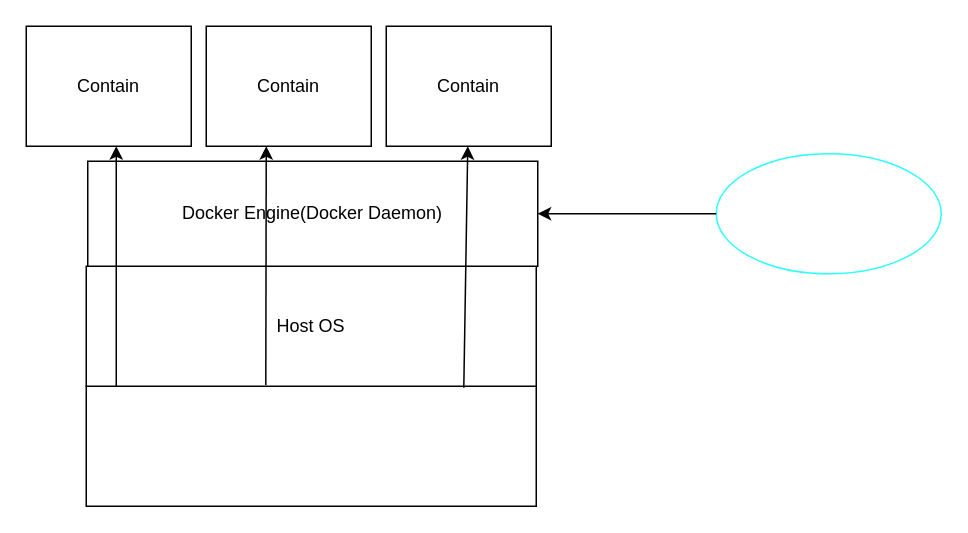
Image size: 968x533. Some labels were removed from this diagram. The box of each missing label's shape, as (x1, y1, x2, y2) in pixels:
Hardware: (85, 385, 536, 506)
Like hypervisor: (715, 152, 941, 274)
